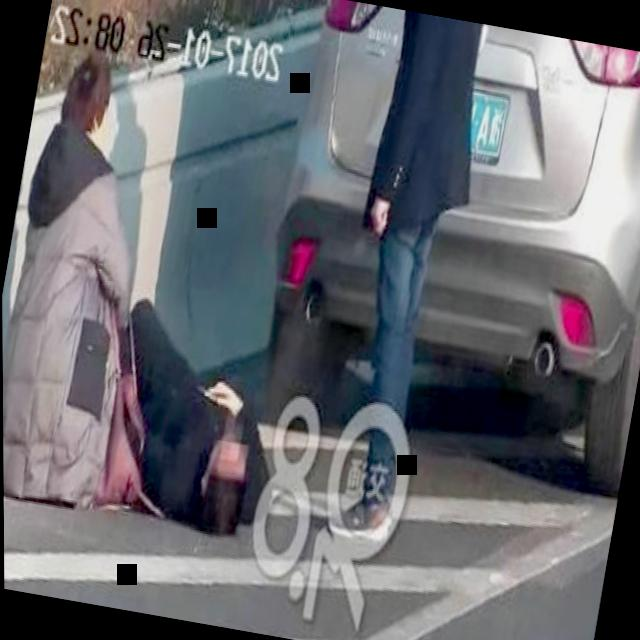Fall-Detected: (86, 266, 300, 545)
